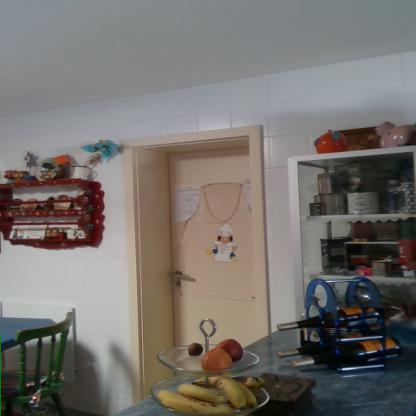door: (166, 152, 258, 370)
lever: (168, 270, 196, 284)
